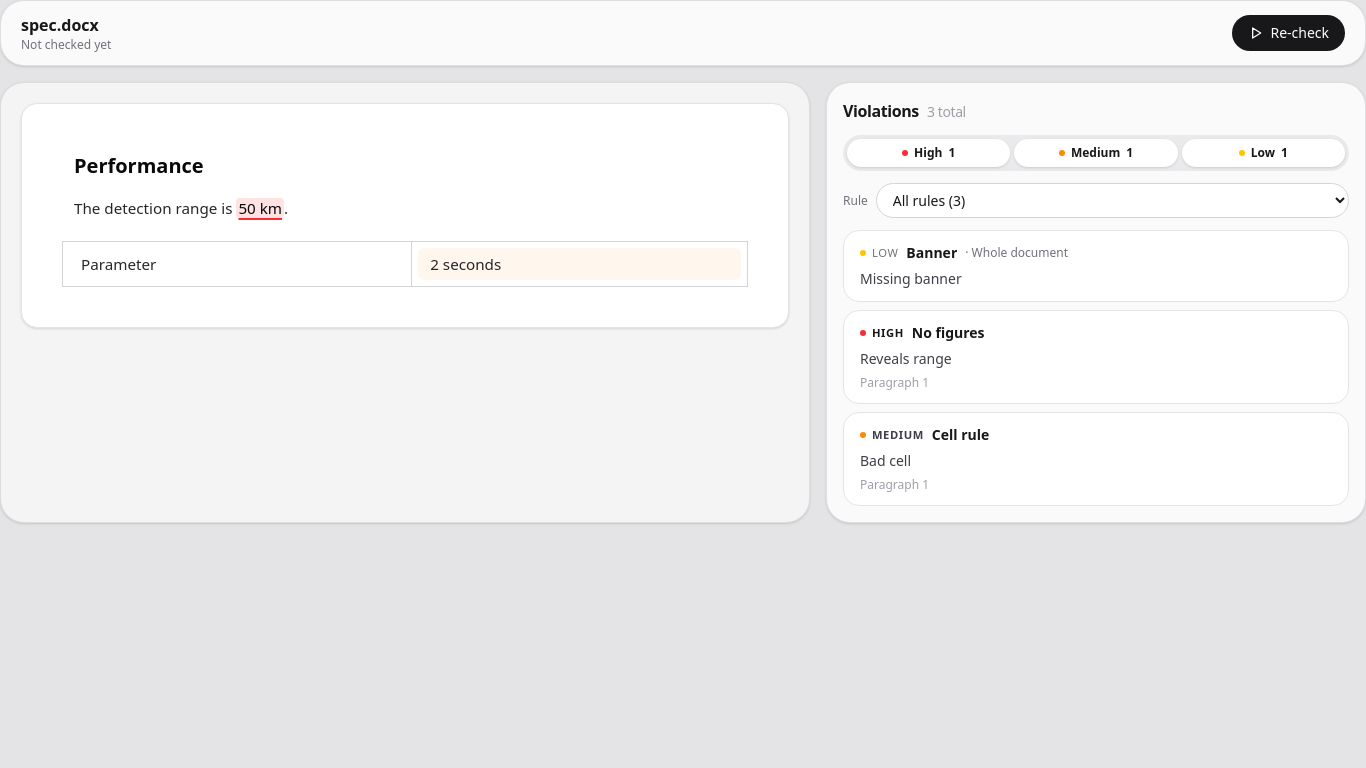
Test: ReportView › filters by severity with counted chips
Check: the button "Low 1" is shown, box left=1182, top=139, right=1345, bottom=167
Click the button "High 1" at (929, 153), box left=847, top=139, right=1010, bottom=167
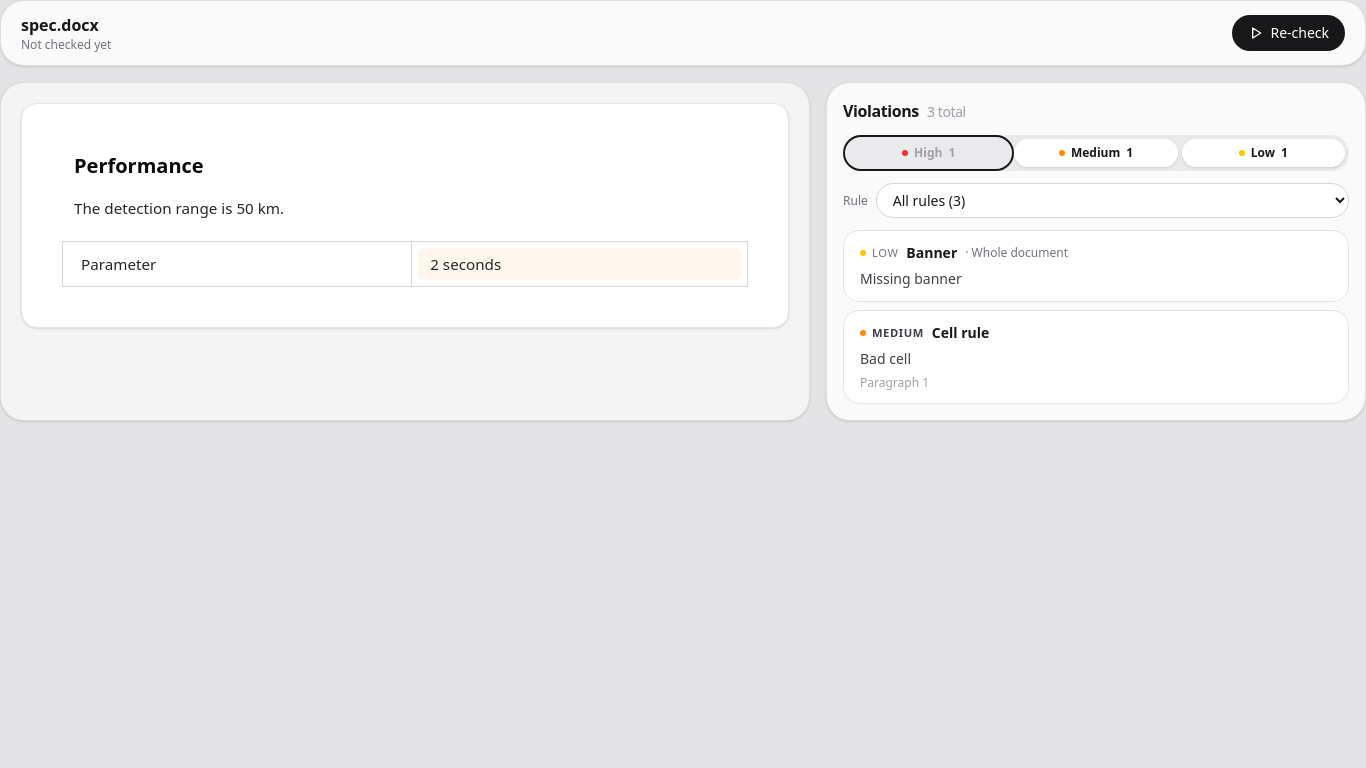
Check: the button "No figures" is gone
